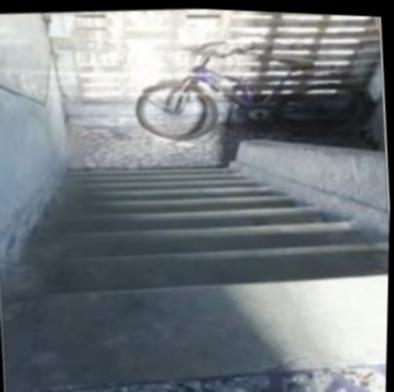Animal: (45, 181, 329, 356)
